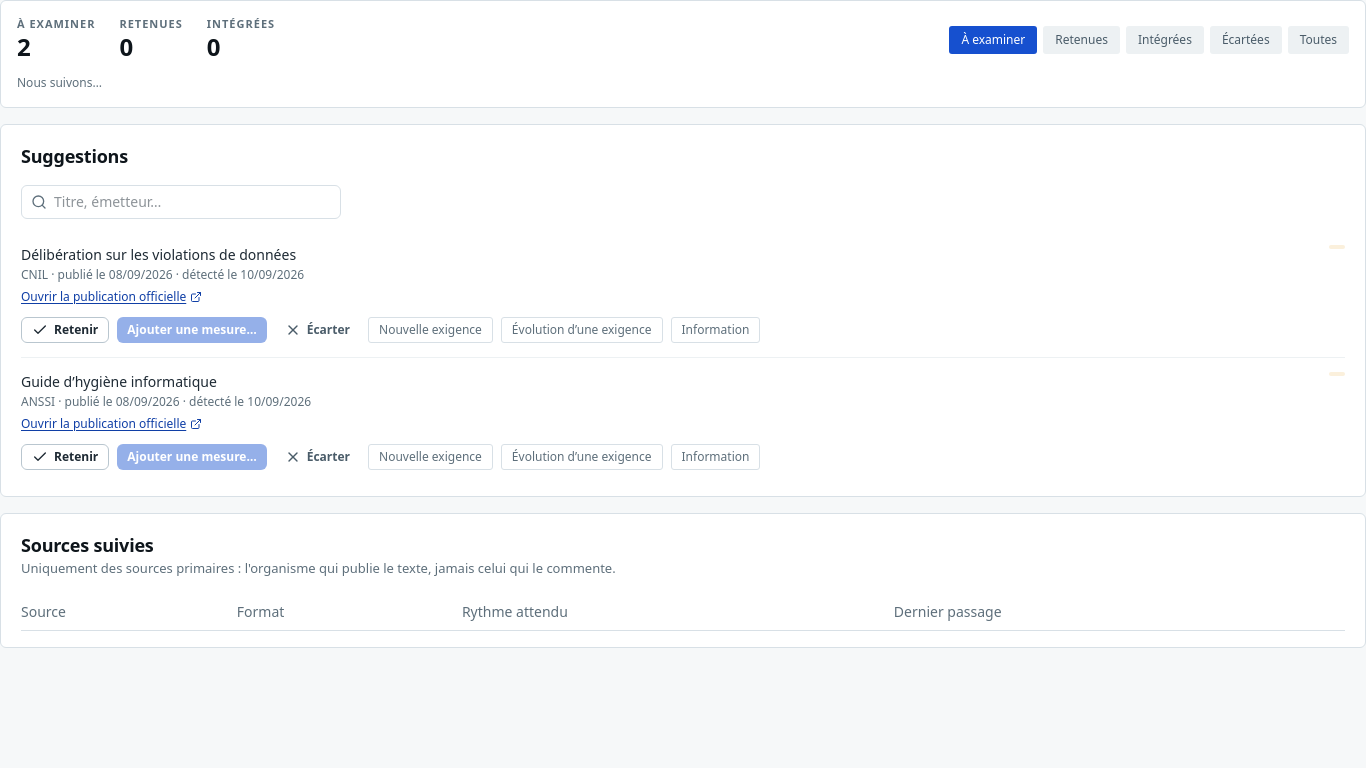
WatchPanel — chercher une suggestion › ne présente pas une recherche vide comme une file vide
The image size is (1366, 768).
Type "zzz" into the search field named "Rechercher une suggestion". click: (181, 202)
box: [21,185,341,219]
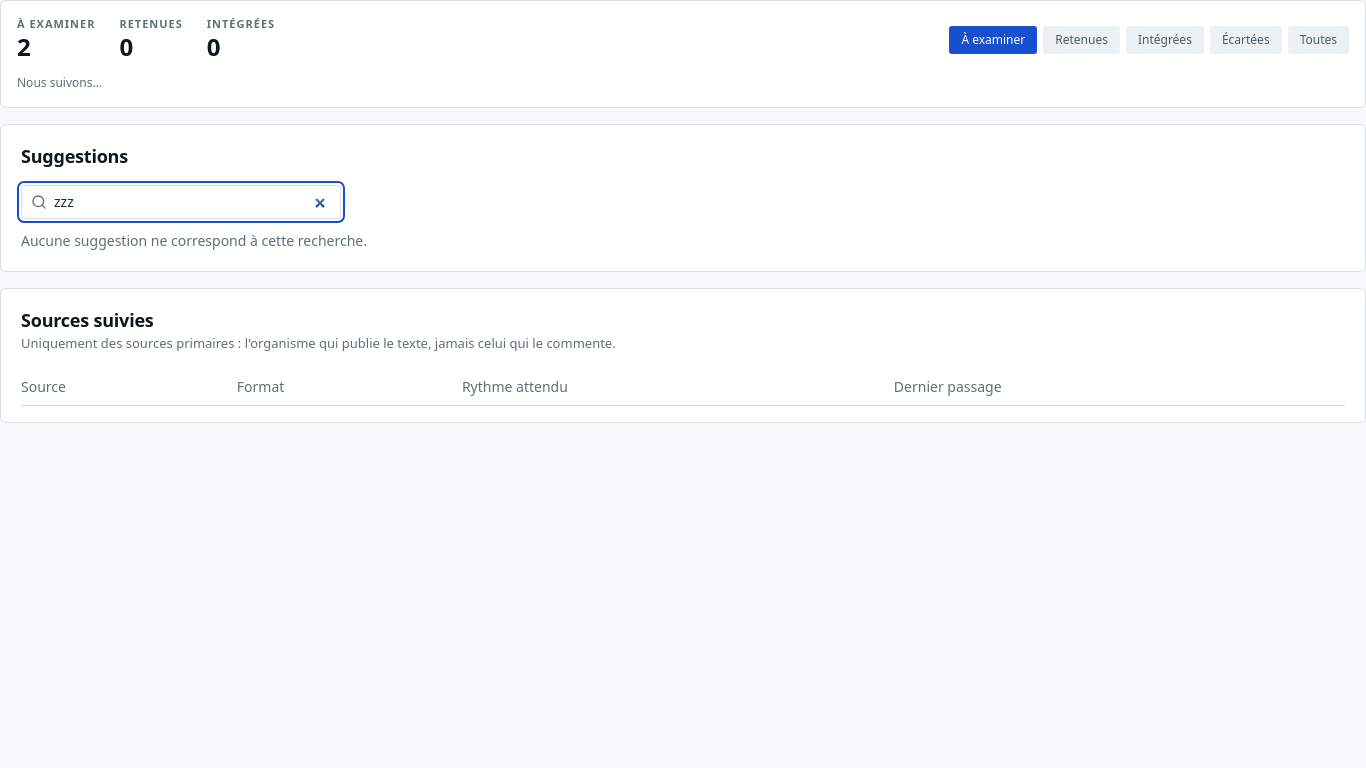
Expected: the text "Aucune suggestion ne correspond à cette recherche." is shown, [21,231,367,250]
